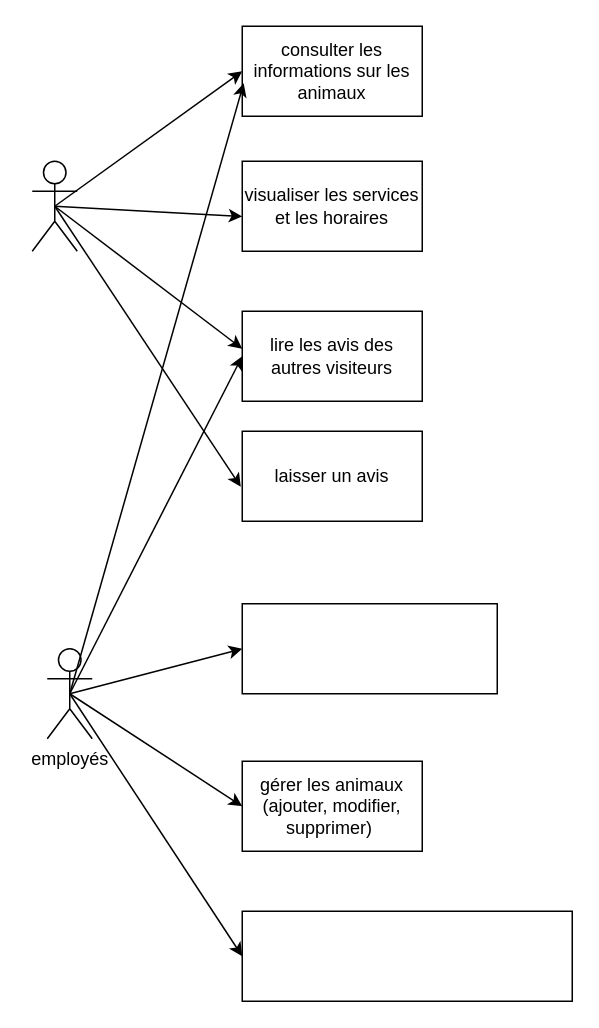
Some shapes in this 599 by 1028 pixel diagram are drawn without their labels. The shapes that lost their labels are listed below. From the top down, each one's centre as x and y in pixels, then its label:
At point 54,205: "visiteur".
At point 369,648: "gérer les services du zoo (ajouter,modifier,supprimer)".
At point 406,955: "Saisir les données relatives à l'alimentation des animaux.".
